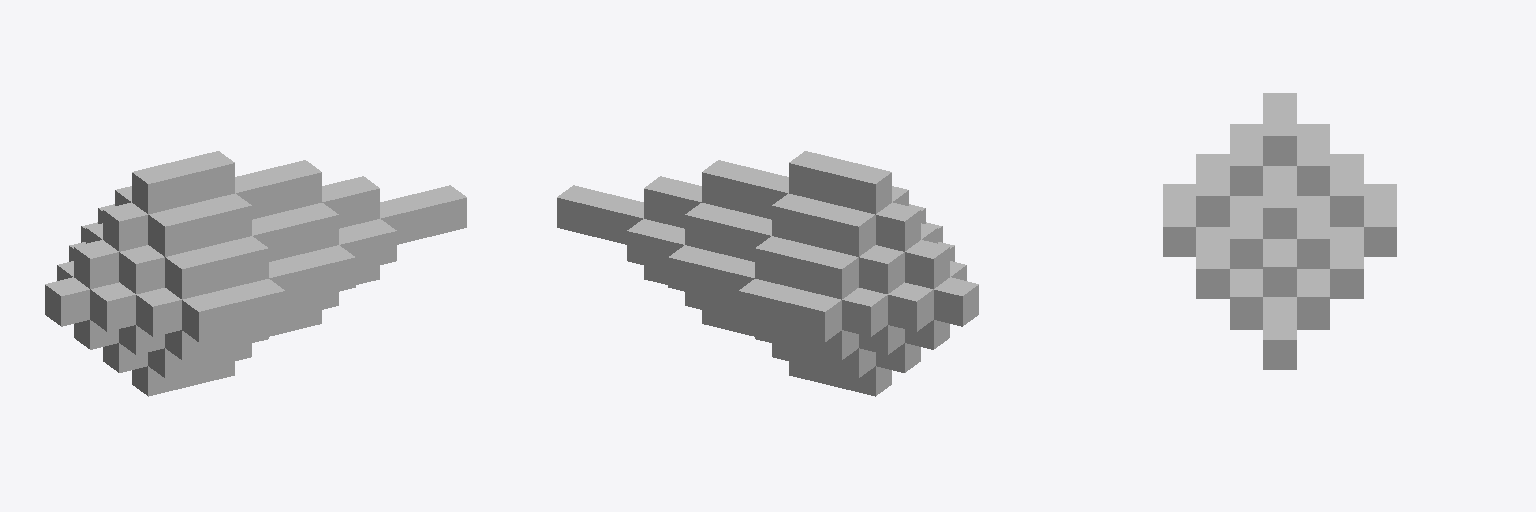
Rendered from hielo.obj.
The picture shows the model from 3 angles: view 1: azimuth 30°, elevation 25°; view 2: azimuth 150°, elevation 25°; view 3: azimuth 270°, elevation 25°; orthographic projection.
Parts seen in each view (by area): view 1: object 1; view 2: object 1; view 3: object 1.
Part boxes in pixels (bbox=[...]): object 1: bbox=[45, 151, 466, 396]; object 1: bbox=[557, 151, 978, 396]; object 1: bbox=[1163, 93, 1396, 369].
Bounding box in the file's own units: 1.4 × 0.7 × 0.7.